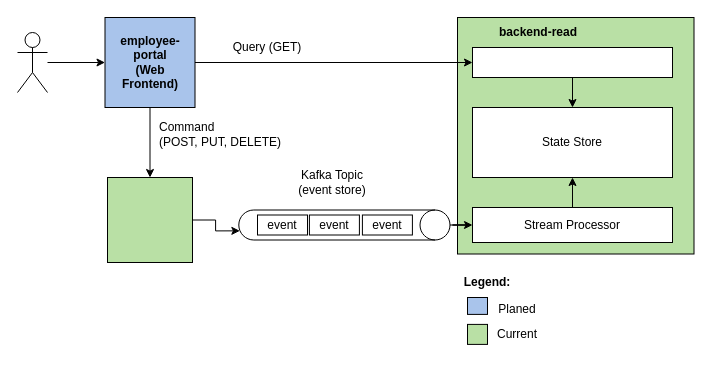
This 712x367 diagram has some shape labels left out. Each missing label, with the centre of its shape:
backend: point (149, 219)
Rest-API: point (572, 62)
User: point (32, 62)
